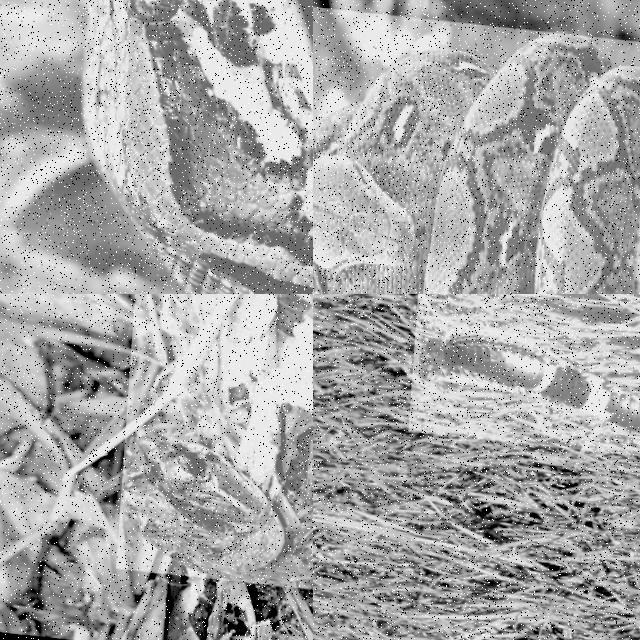Calloselasma rhodostoma: (121, 435, 312, 584)
Malayopython reticulatus: (313, 34, 639, 293)
Naja siamensis: (414, 326, 639, 433)
Python bivittatus: (0, 0, 312, 293)
